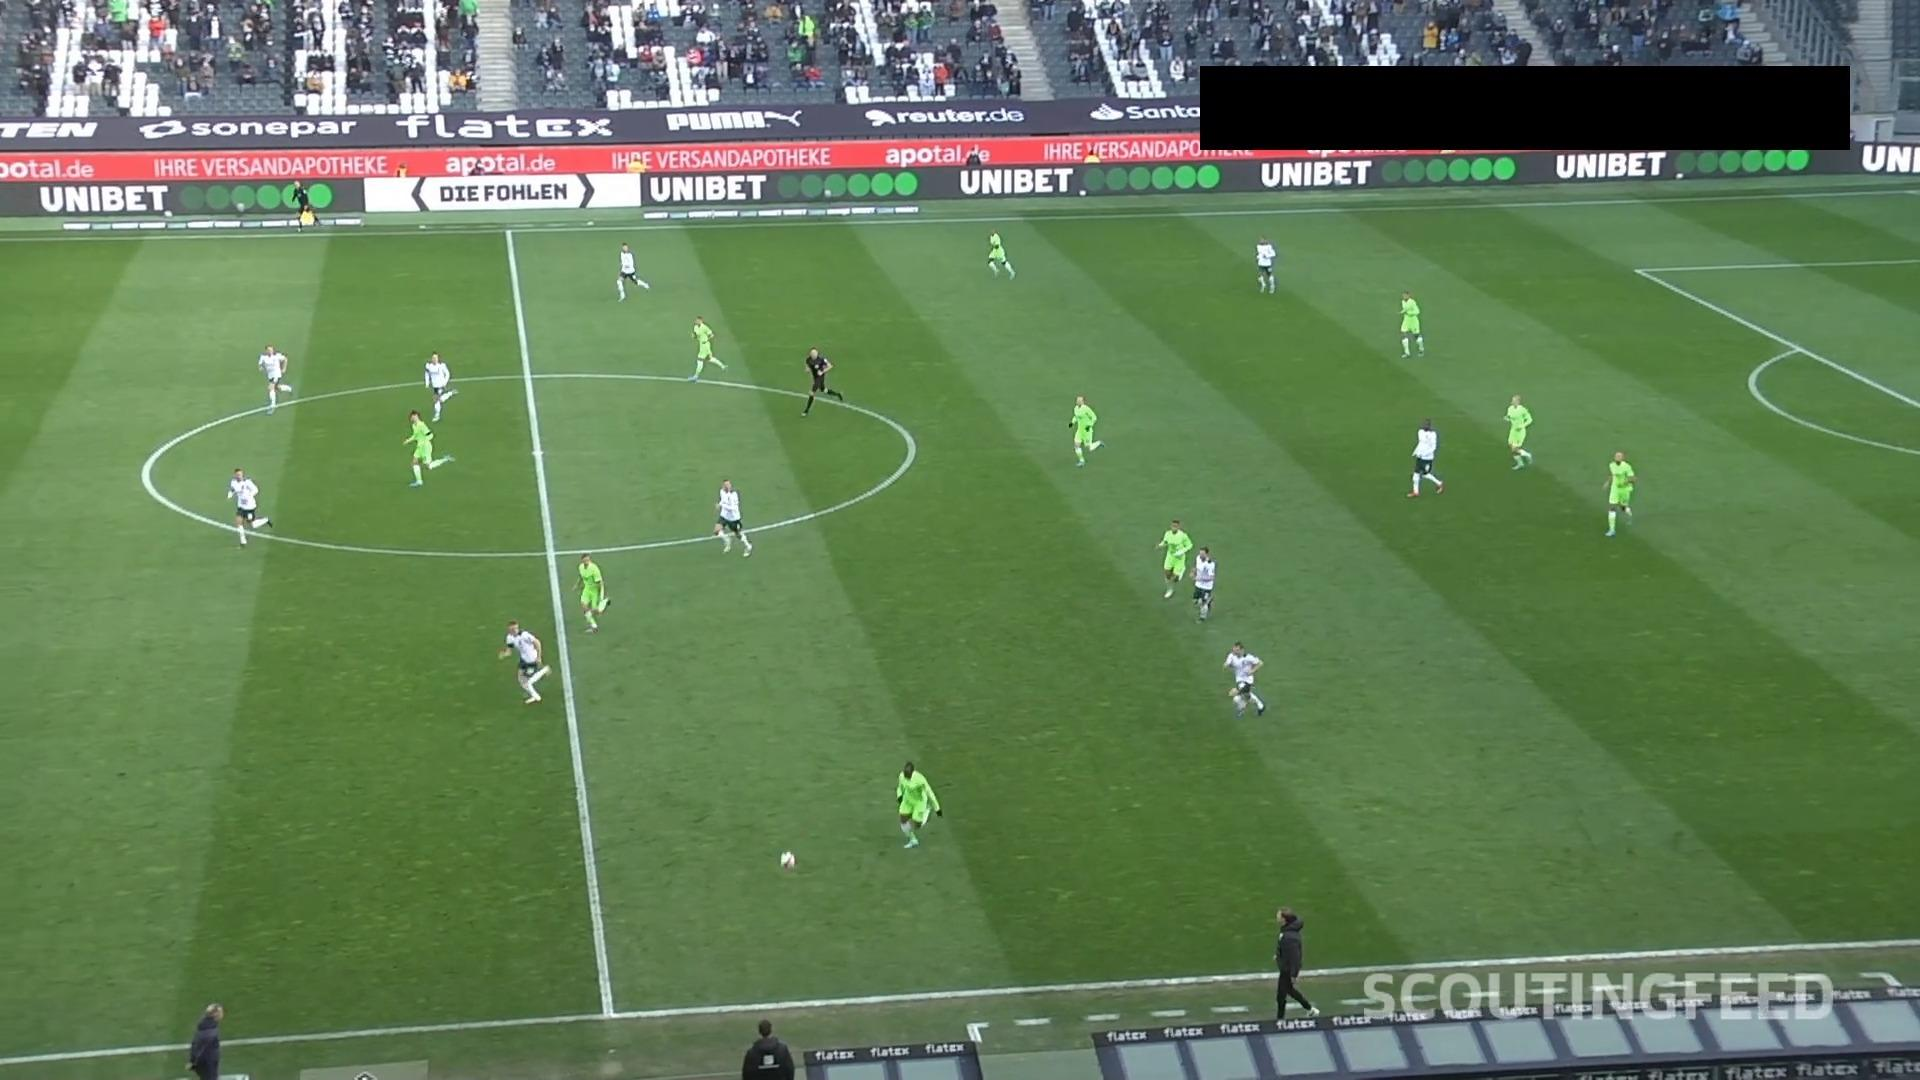ball: (777, 849, 800, 873)
